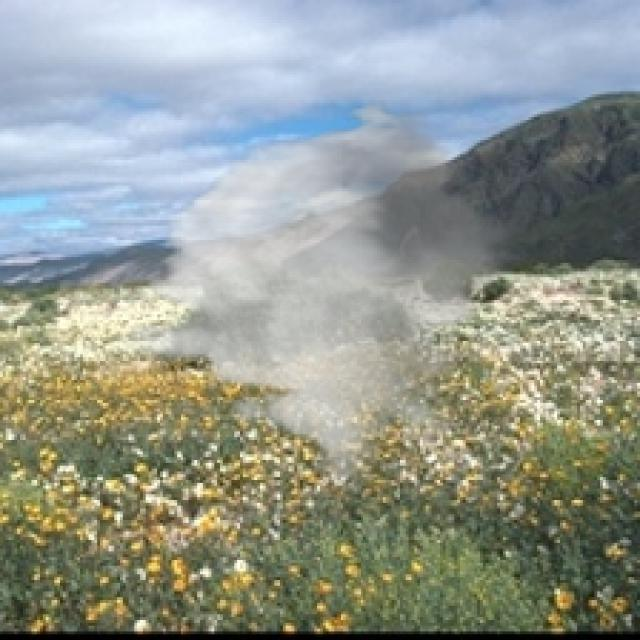smoke: (117, 100, 526, 486)
